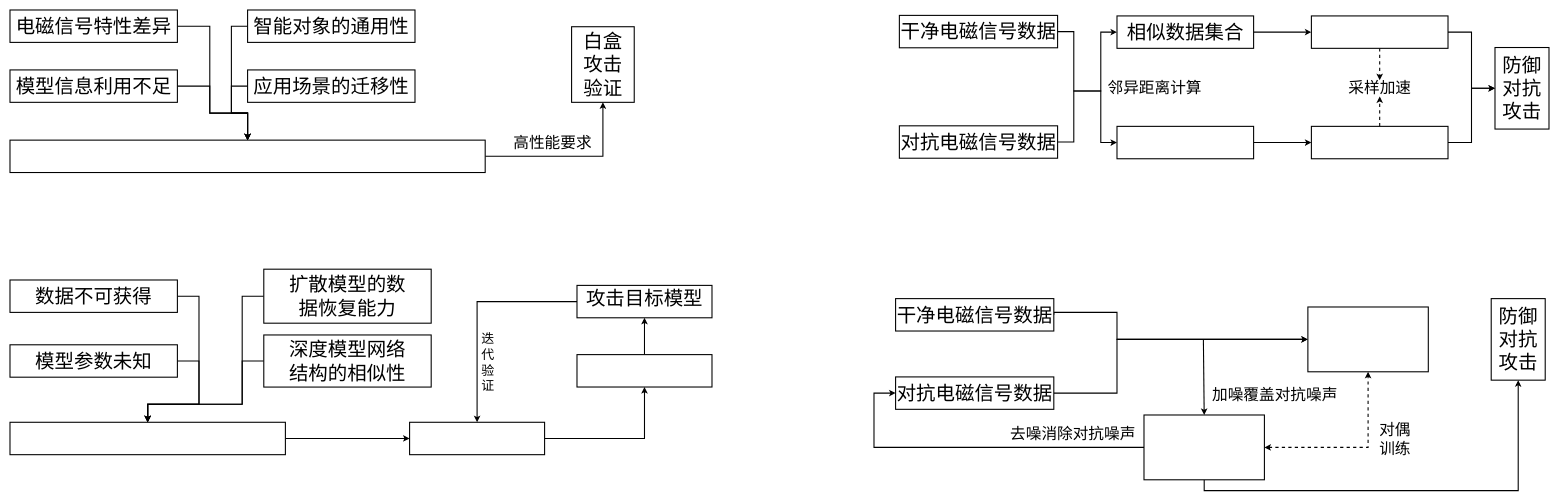
The diagram is 1558 pixels wide and 504 high, and some of its shapes have lost their labels. Here are the shapes that lost their labels. From the top down, the centre of each, then its label:
At [1379,32]: "缩小表示邻域".
At [247,156]: "通用对抗和毒化机制、梯度优化、输入转换和模型集成".
At [1185,142]: "相异数据集合".
At [1379,142]: "扩大表示距离".
At [1368,339]: "对抗样本 检测器".
At [644,370]: "生成对抗样本".
At [147,438]: "扩散模型生成，拟合未知数据".
At [477,438]: "训练替代模型".
At [1204,447]: "对抗样本 还原器".
